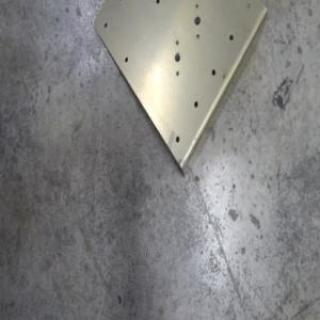MetalSheettrack_idkeyframe: (94, 0, 268, 179)
